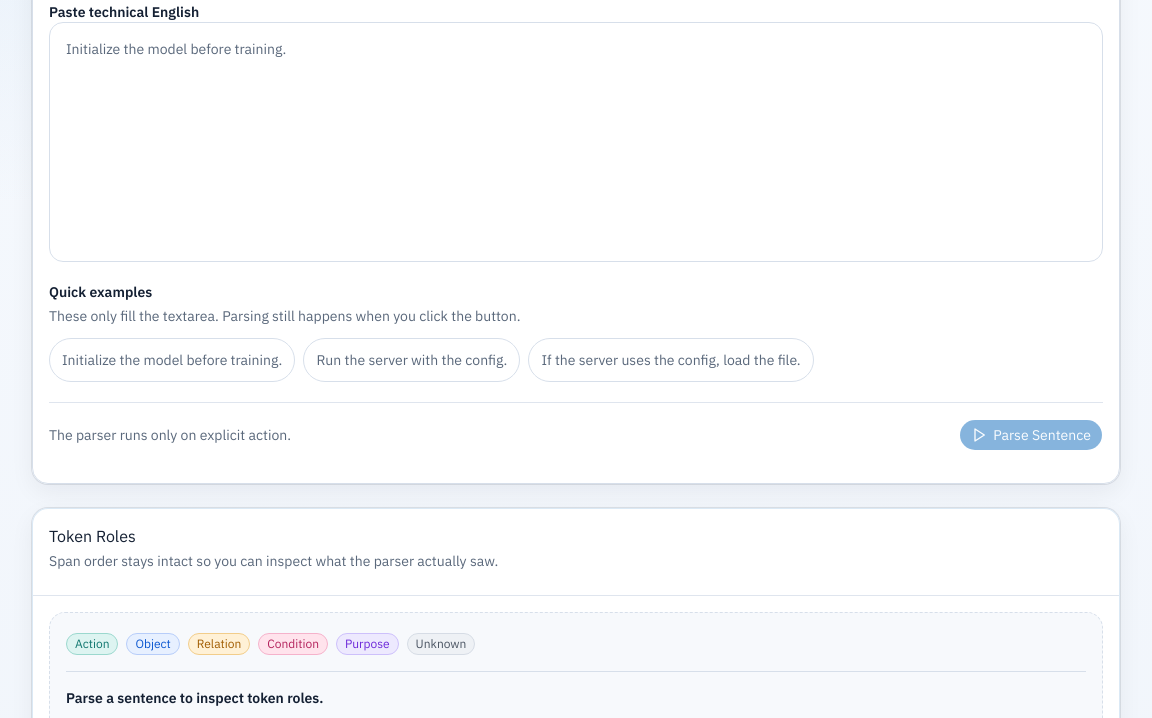
it: local demo v0 › fills from an example chip without auto parsing
The width and height of the screenshot is (1152, 718).
(page scrolled)
Click the button "Run the server with the config.". click: (412, 360)
box: [303, 338, 520, 382]
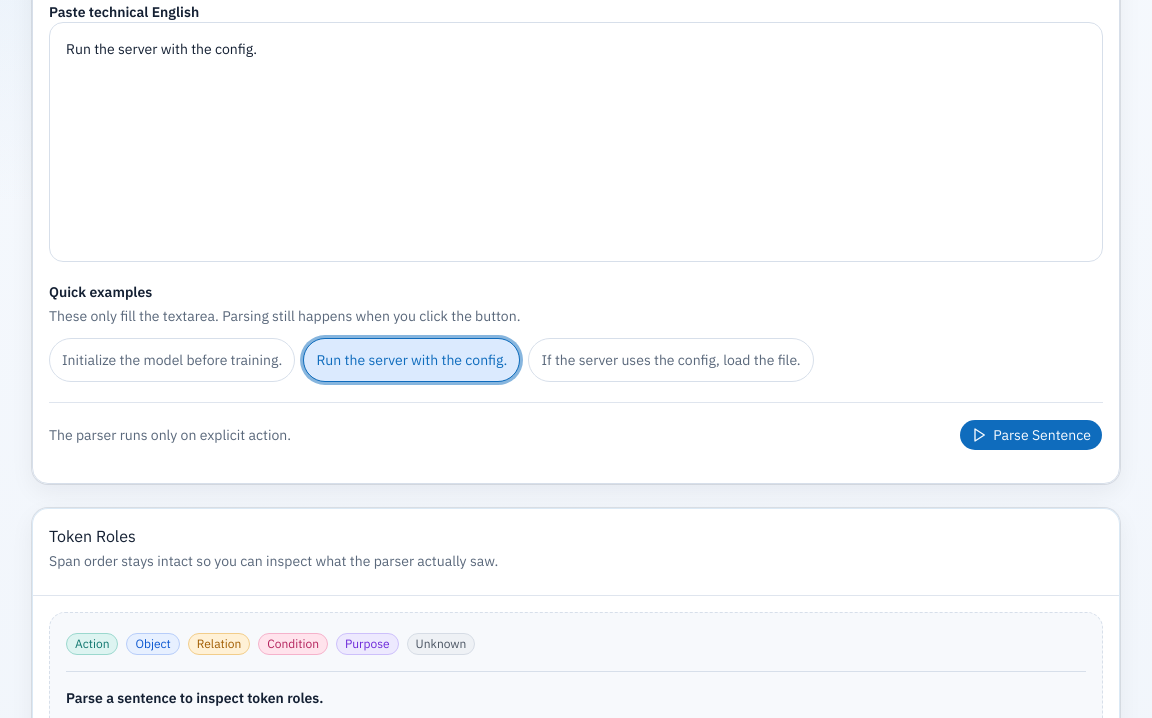
Expected: the text "Parse a sentence to inspect token roles." is shown, [66, 690, 324, 708]
Expected: the text box labelled "Paste technical English" holds "Run the server with the config.", [49, 22, 1103, 262]
